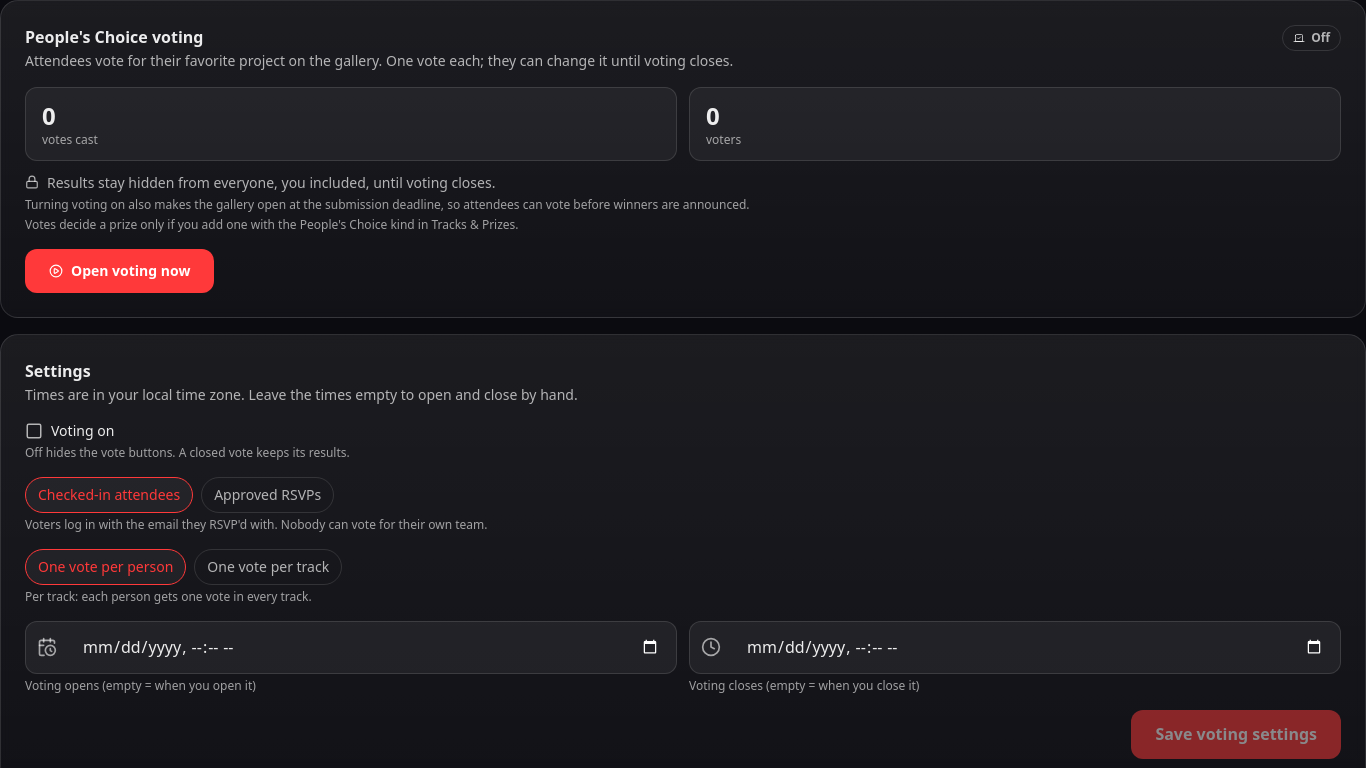
VotingSection gallery auto-switch (PR 7) › explains the switch before voting is on, and shows the server notice after turning it on
The image size is (1366, 768).
expect the text "Turning voting on also makes the gallery open at the submission deadline" is shown: met, box left=25, top=196, right=750, bottom=213
Click the button with test id "voting-open".
click(120, 271)  # box left=25, top=249, right=214, bottom=293
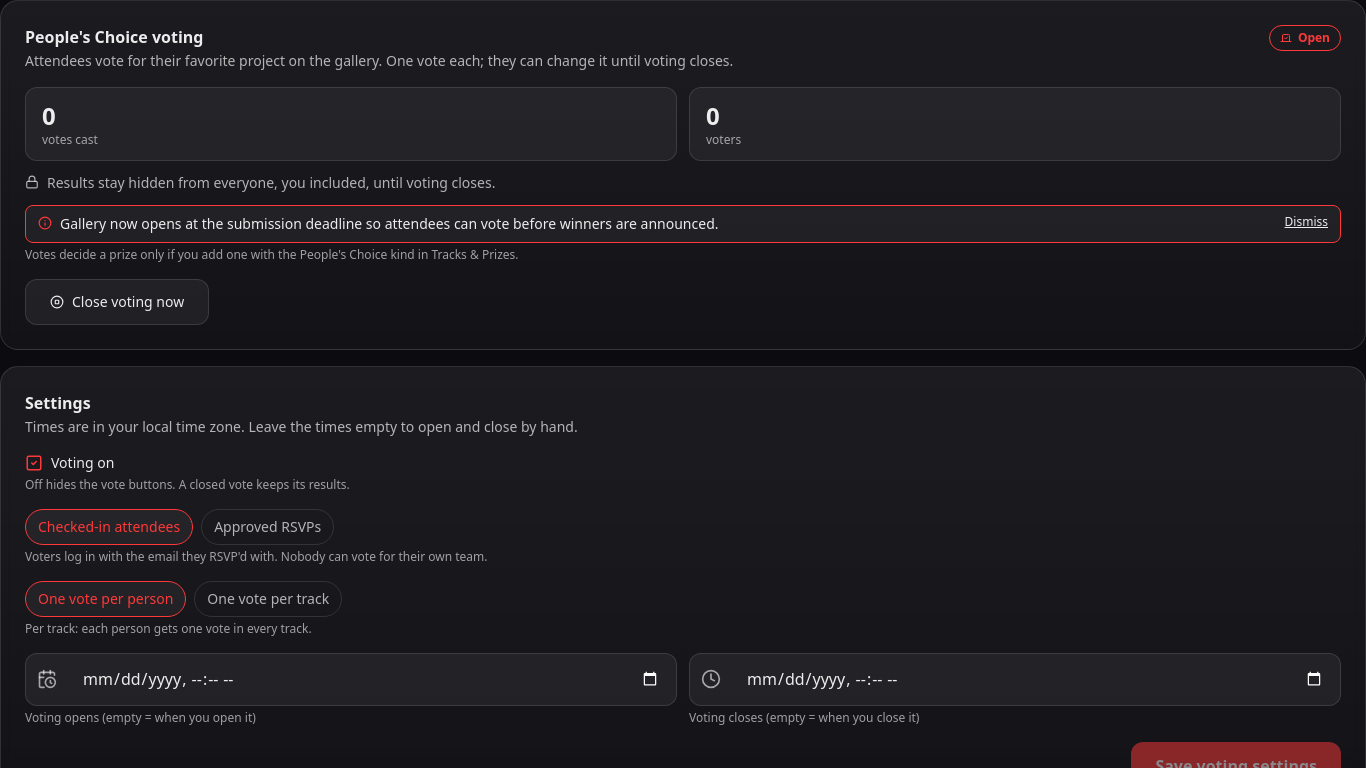
expect the message with test id "voting-notice" shows "Gallery now opens at the submission deadline so attendees can vote before winners are announced.": met, box left=60, top=214, right=718, bottom=233
expect the text "Turning voting on also makes" is gone: met
Click the button "Dismiss".
click(1306, 222)  # box left=1285, top=214, right=1328, bottom=230
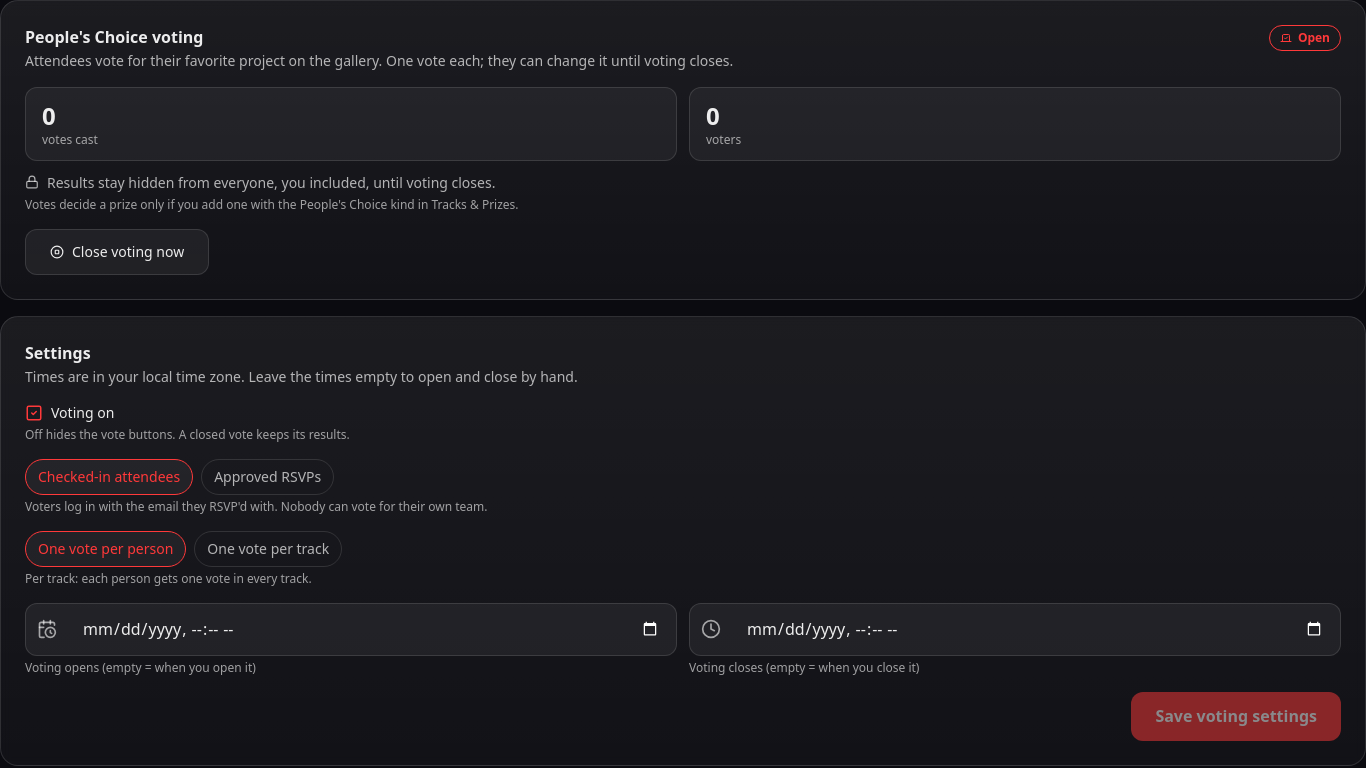
expect the message with test id "voting-notice" is gone: met
